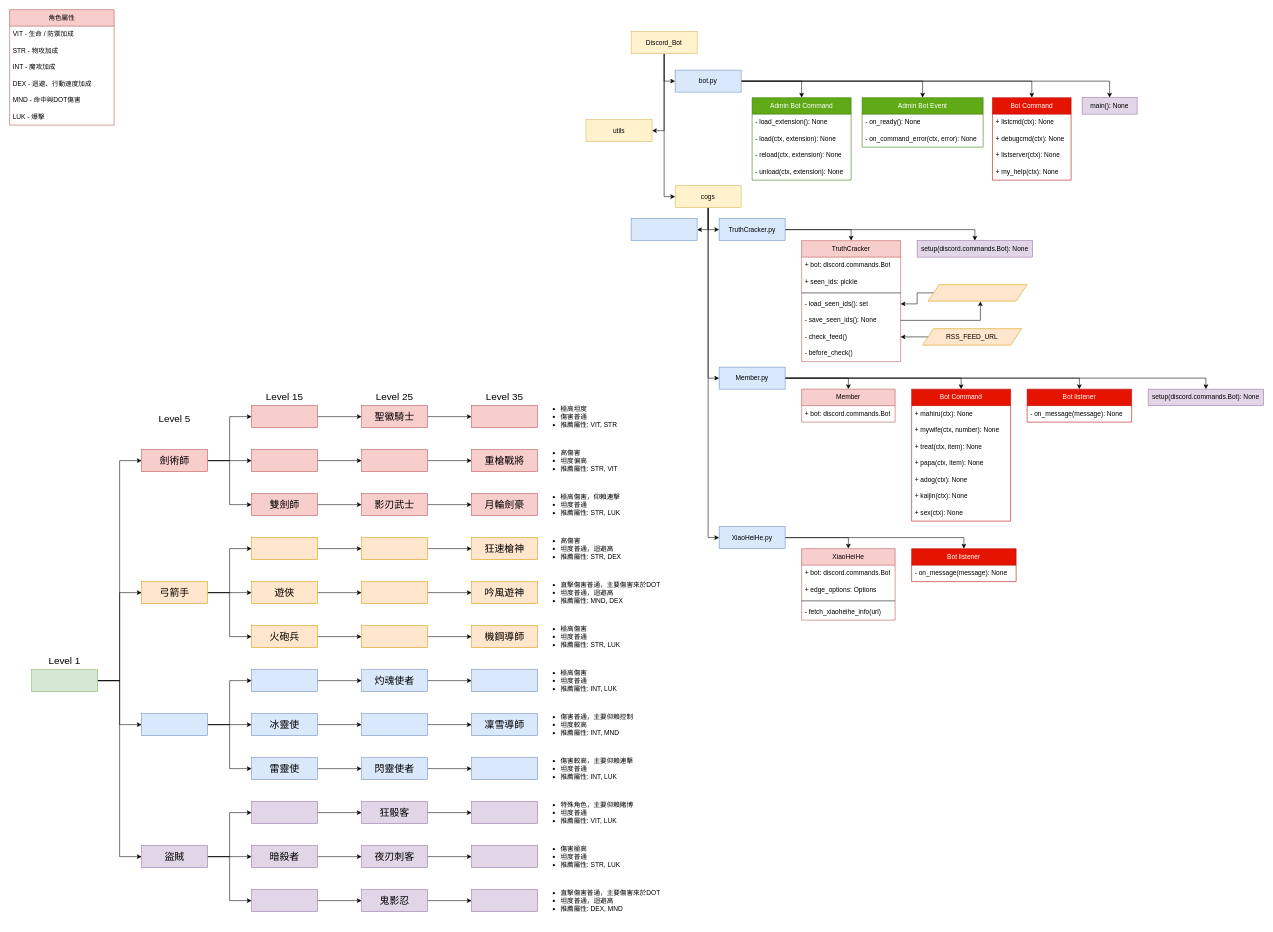
Image size: 1273x932. Some labels were removed from this diagram. The centre of each missing label's shape, as x and y in pixels:
BattleGame.py: (664,229)
seen_truth_posts.pkl: (977,292)
冰凝使者: (394,724)
命運使徒: (504,812)
幽影鬼刃: (504,856)
忍者: (284,900)
戰士: (284,460)
法師: (174,724)
火靈使: (284,680)
熾焰魂師: (504,680)
絕槍戰士: (394,460)
見習生: (64,680)
賭徒: (284,812)
連彈俠客: (394,548)
銀衛聖騎: (504,416)
銃槍專家: (394,636)
闇忍宗師: (504,900)
雙槍士: (284,548)
雷皇術師: (504,768)
風吟者: (394,592)
騎士: (284,416)
